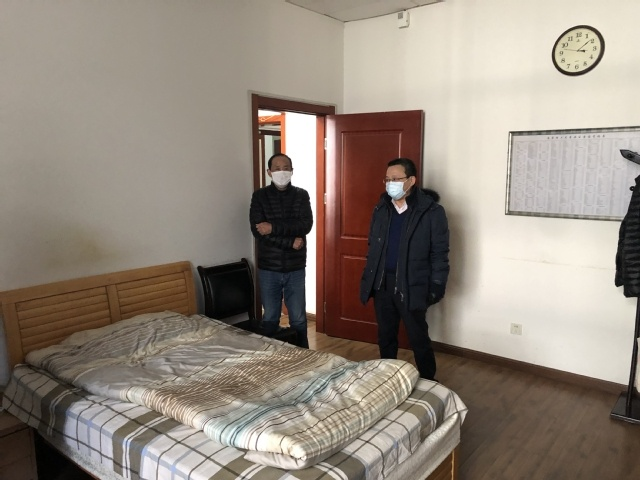correctlyWear: (383, 171, 417, 200), (265, 161, 293, 187)
